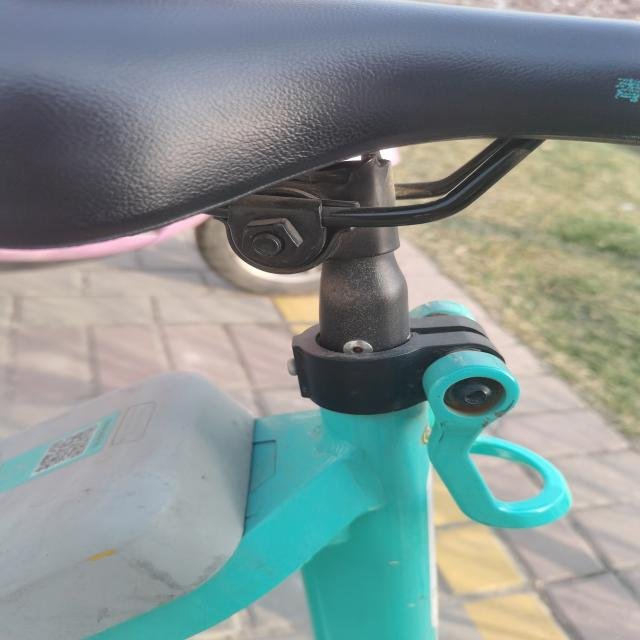bolt nut: (239, 216, 304, 267)
